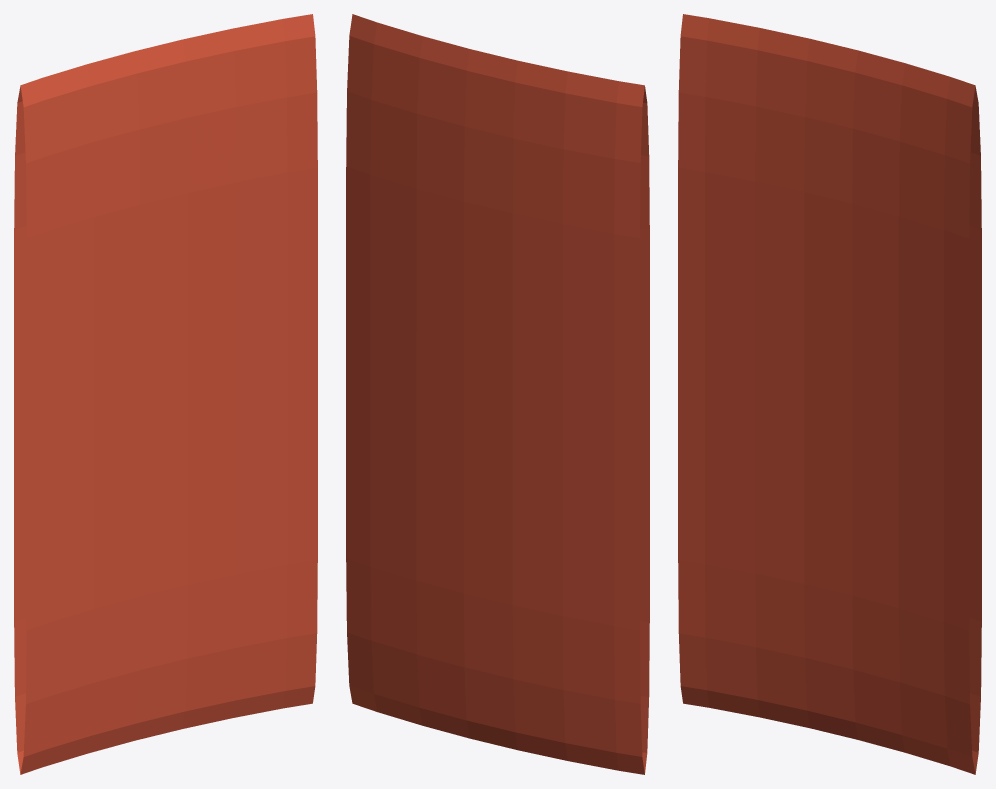
Rendered from collider_empty_place.fbx.
The picture shows the model from 3 angles, left to right: view 1: azimuth 30°, elevation 25°; view 2: azimuth 150°, elevation 25°; view 3: azimuth 330°, elevation 25°; orthographic projection.
Parts seen in each view (by area): view 1: collider_empty_place; view 2: collider_empty_place; view 3: collider_empty_place.
Part boxes in pixels (left/top/right/bottom): collider_empty_place: left=14, top=14, right=317, bottom=774; collider_empty_place: left=346, top=14, right=649, bottom=774; collider_empty_place: left=678, top=14, right=981, bottom=774.
Size of the model in its own units: 102 by 228 by 10.7.
